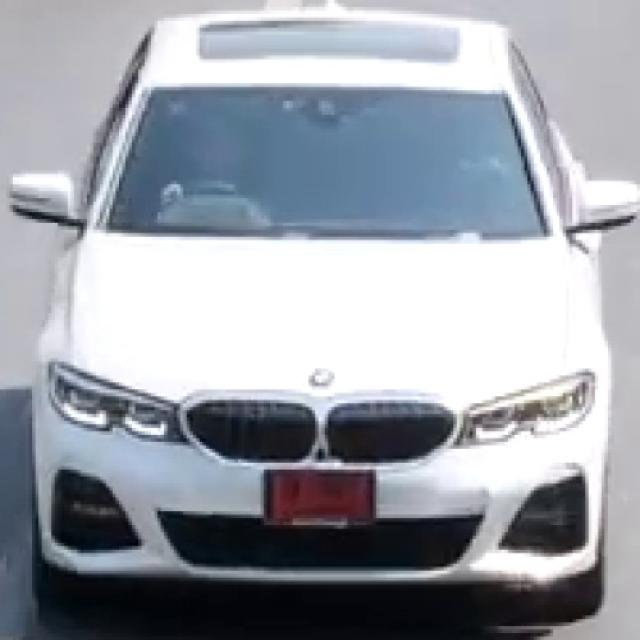plate: (264, 465, 378, 532)
